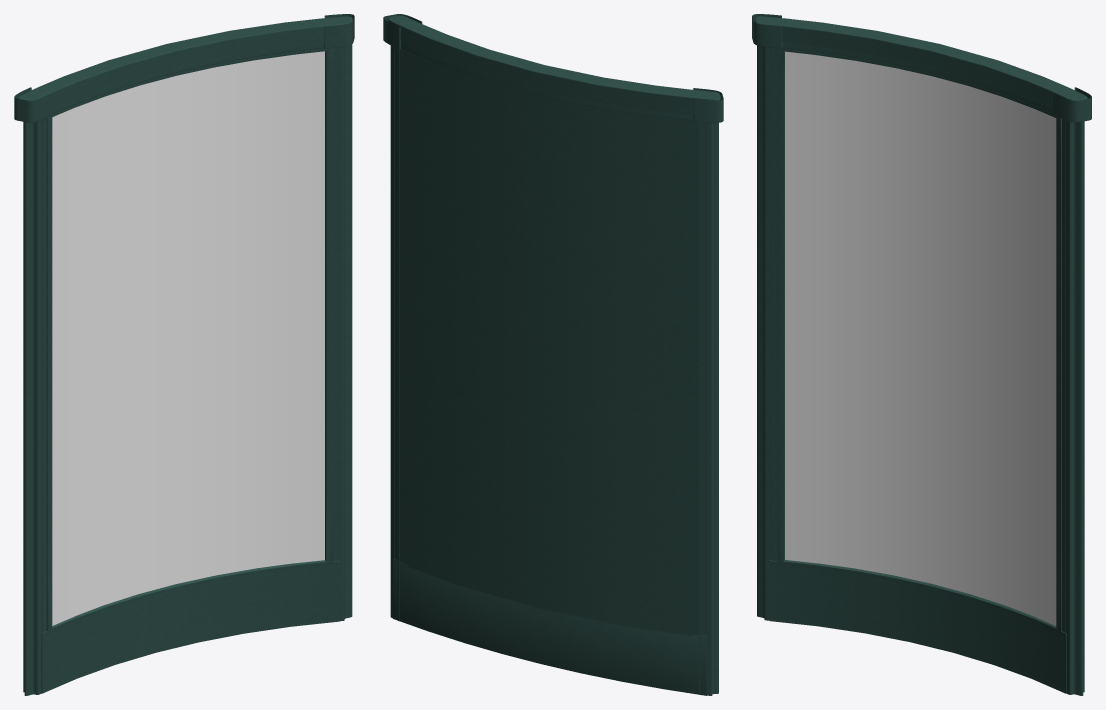
File: Bended_Floorstand_Billboard.fbx
3 renders of one model, left to right at view 1: azimuth 30°, elevation 25°; view 2: azimuth 150°, elevation 25°; view 3: azimuth 330°, elevation 25°, orthographic.
Visible parts, largest first — view 1: Bended_Floorstand_Billboard_Ad001, Bended_Floorstand_Billboard_Frame; view 2: Bended_Floorstand_Billboard_Frame; view 3: Bended_Floorstand_Billboard_Ad001, Bended_Floorstand_Billboard_Frame.
Part boxes in pixels (box(x1,y1,x2,y2)): Bended_Floorstand_Billboard_Ad001: box(52, 51, 324, 625); Bended_Floorstand_Billboard_Frame: box(14, 14, 354, 695); Bended_Floorstand_Billboard_Frame: box(383, 14, 723, 695); Bended_Floorstand_Billboard_Ad001: box(785, 51, 1056, 625); Bended_Floorstand_Billboard_Frame: box(752, 14, 1091, 695).
Size of the model in its own units: 37.28 by 62.81 by 5.14.
2 materials, 2 textured.
